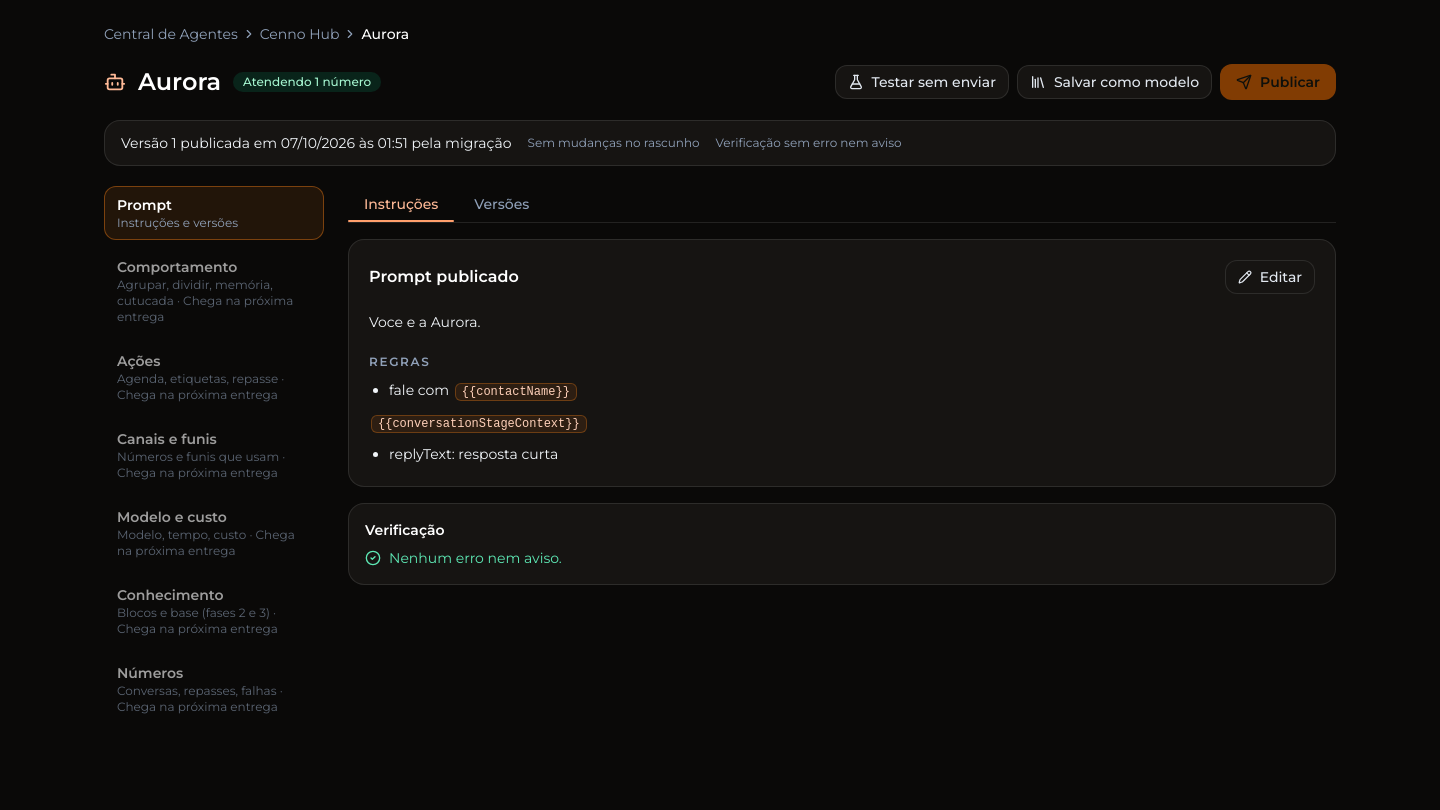
Test: AgentEditorPage › testar sem enviar: abre o painel; em edição o botão fica desabilitado com o motivo
Check: the text "Versão 1 publicada em 07/10/2026 às 01:51 pela migração" is shown, box [121, 133, 512, 153]
Click the button "Testar sem enviar" at (922, 82), box [834, 65, 1009, 99]
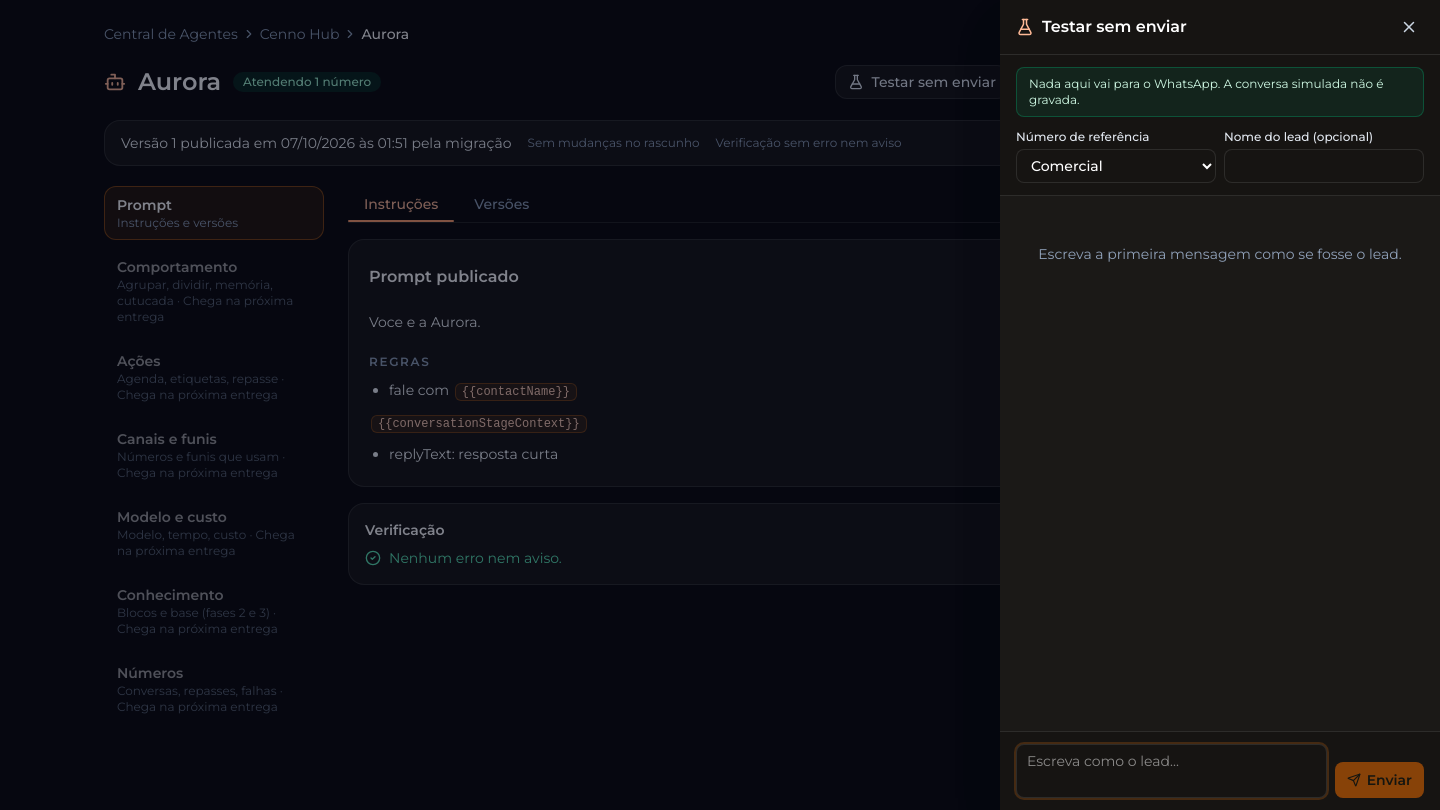
Check: the text "Nada aqui vai para o WhatsApp. A conversa simulada não é gravada." is shown, box [1016, 67, 1424, 117]
Click the button named "Fechar" at (1409, 27), box [1394, 12, 1424, 42]
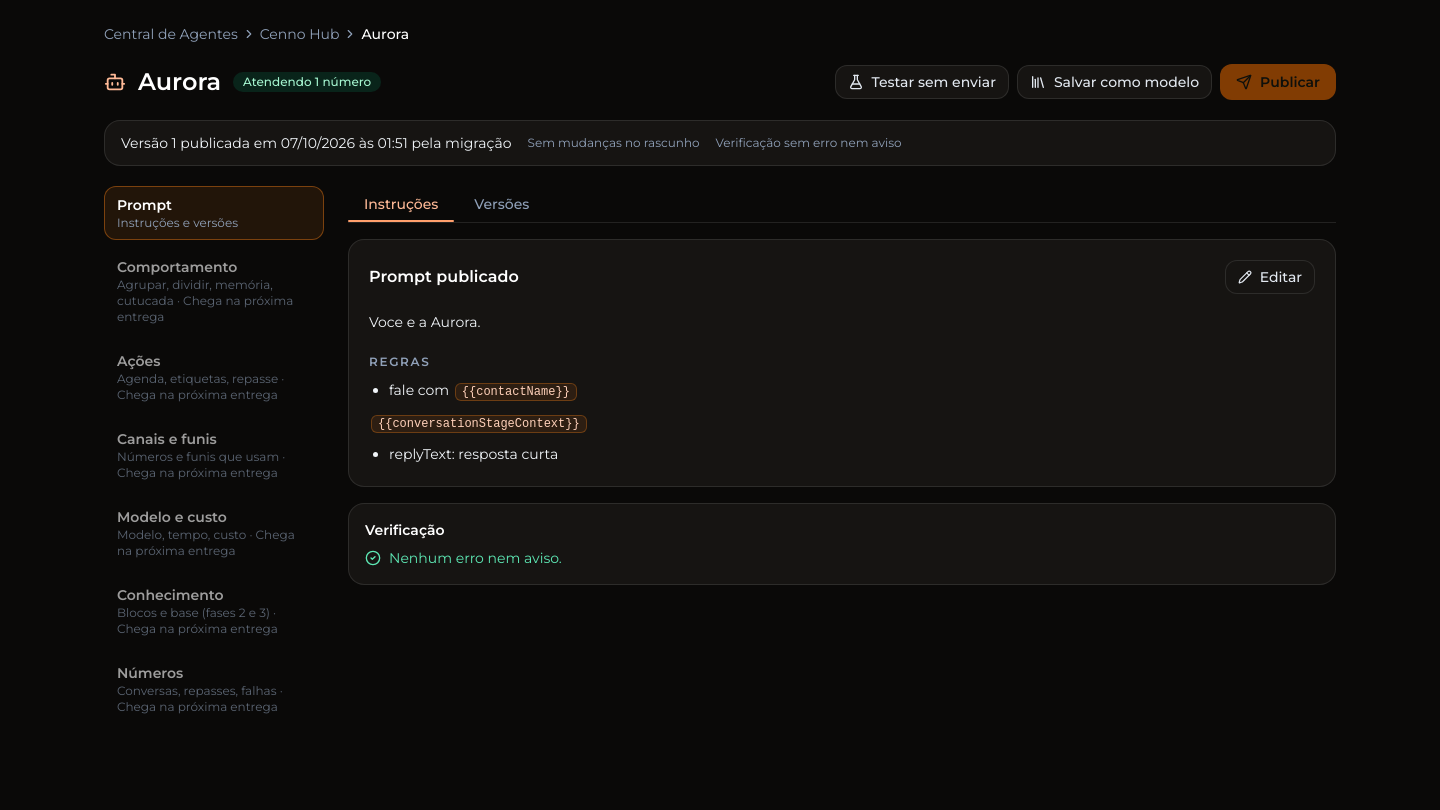
Click the button "Editar" at (1270, 277), box [1225, 260, 1315, 294]
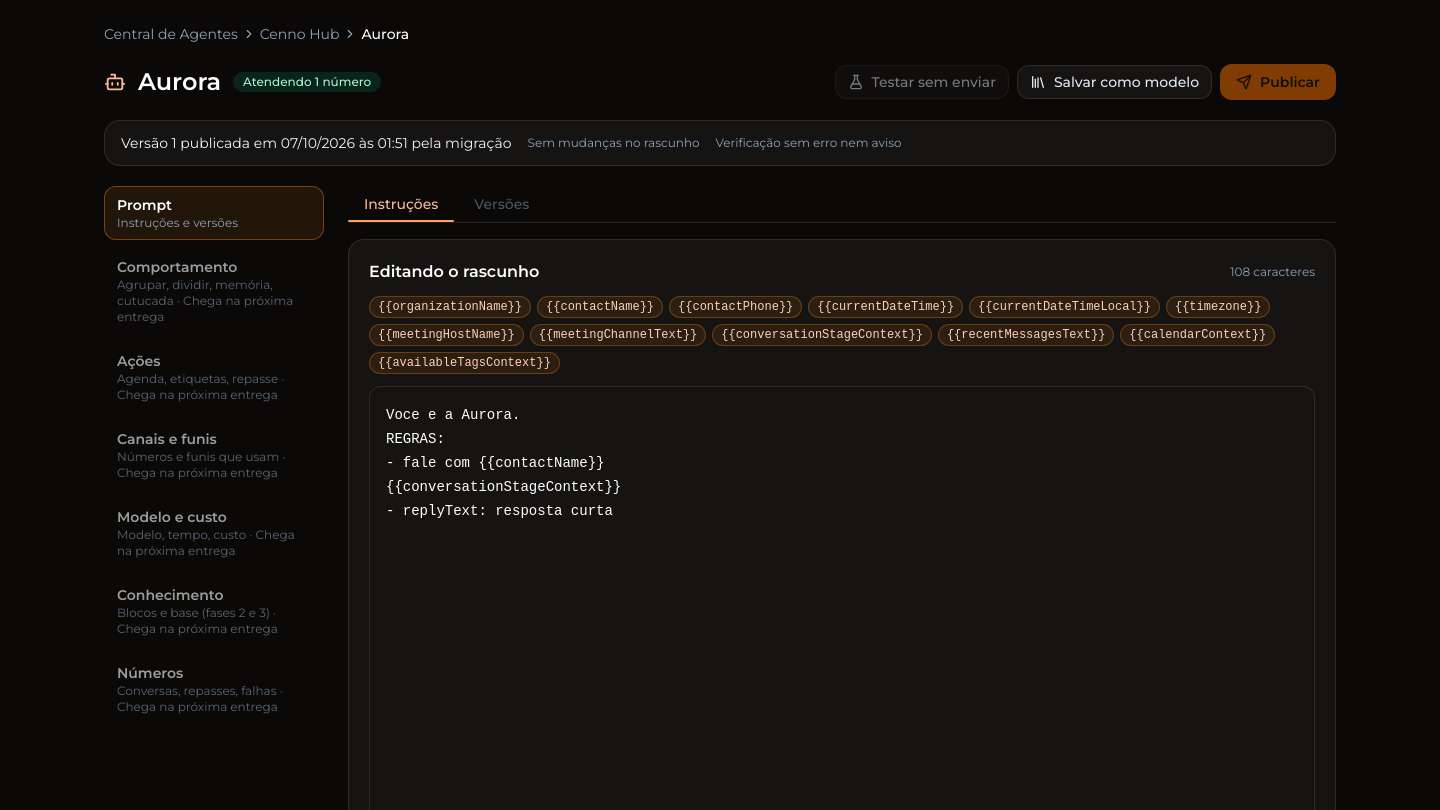
Check: the button "Testar sem enviar" is disabled, box [834, 65, 1009, 99]
